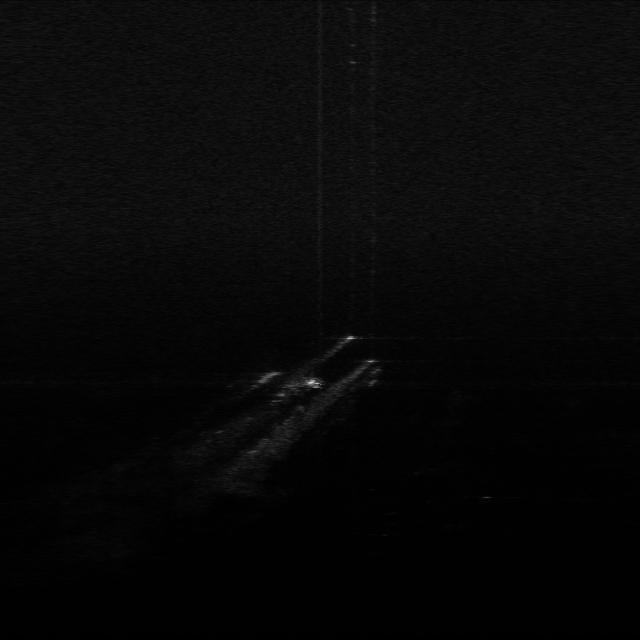rov: (302, 375, 326, 393)
